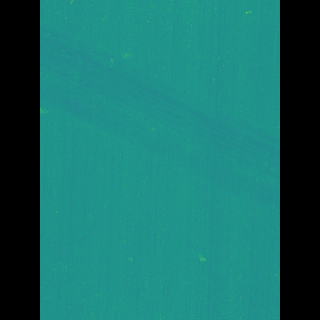Loch: (71, 18, 250, 219)
